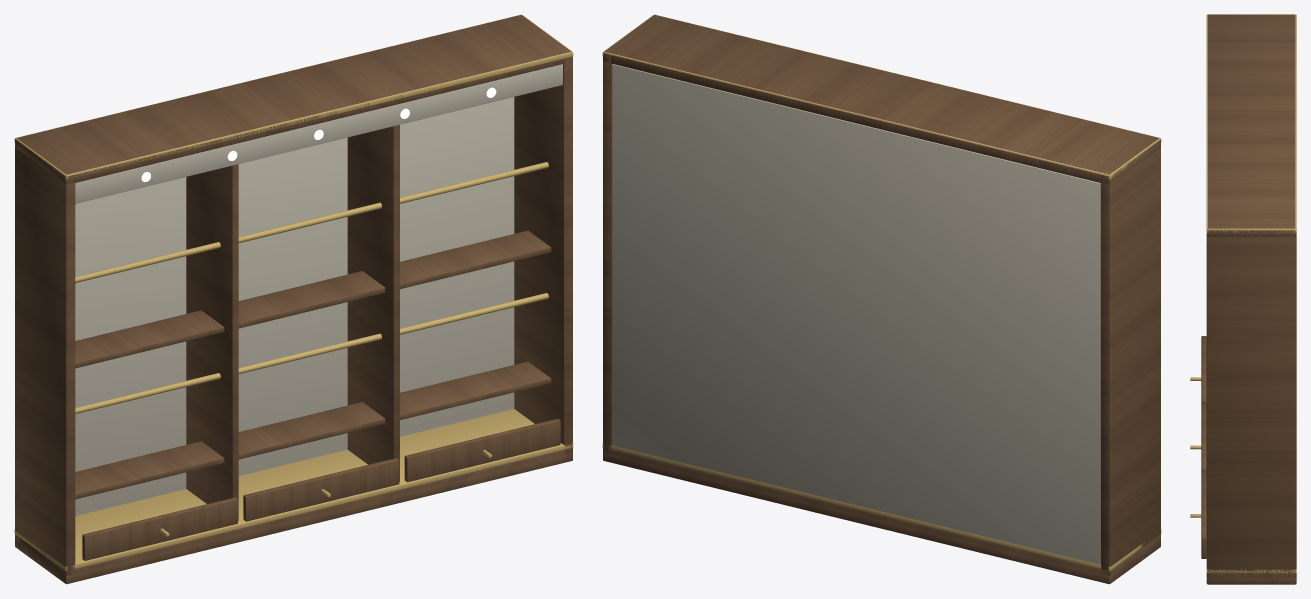
File: pf_display_golf_club_wall_t5.glb
3 views of the same model, side by side, from view 1: azimuth 30°, elevation 25°; view 2: azimuth 150°, elevation 25°; view 3: azimuth 270°, elevation 25° (orthographic). The views are drawn at different scales.
Parts seen in each view (by area): view 1: Case_Back, Case_Top, Case_Left, Case_Right, Millwork_Divider_01, Millwork_Divider_02, Club_Head_Tray_2, Club_Head_Tray_1, Plinth_Trim, Header_Back, Case_Base, Drawer_Front_02 (+6 smaller); view 2: Case_Back, Case_Top, Case_Left, Case_Base, Plinth_Base, Case_Right, Plinth_Trim, Crown_Trim; view 3: Case_Right, Case_Top, Crown_Trim, Case_Base, Drawer_Front_03, Plinth_Base, Drawer_Front_01, Drawer_Front_02, Plinth_Trim.
Part boxes in pixels (x1,y1,x2,y2): Case_Back: [75, 97, 514, 515]; Case_Top: [15, 15, 572, 184]; Case_Left: [15, 142, 75, 584]; Case_Right: [514, 56, 572, 462]; Millwork_Divider_01: [186, 164, 238, 520]; Millwork_Divider_02: [347, 125, 399, 481]; Club_Head_Tray_2: [75, 361, 551, 499]; Club_Head_Tray_1: [75, 230, 551, 368]; Plinth_Trim: [14, 409, 573, 571]; Header_Back: [75, 64, 562, 203]; Case_Base: [15, 452, 572, 583]; Drawer_Front_02: [243, 458, 399, 521]; Case_Back: [612, 64, 1100, 564]; Case_Top: [603, 15, 1160, 184]; Case_Left: [1100, 140, 1160, 584]; Case_Base: [603, 452, 1160, 583]; Plinth_Base: [604, 448, 1160, 582]; Case_Right: [603, 54, 612, 461]; Plinth_Trim: [602, 443, 1161, 571]; Crown_Trim: [602, 14, 1161, 180]; Case_Right: [1206, 226, 1296, 579]; Case_Top: [1206, 14, 1296, 236]; Crown_Trim: [1206, 14, 1296, 233]; Case_Base: [1206, 577, 1296, 584]; Drawer_Front_03: [1201, 472, 1206, 558]; Plinth_Base: [1208, 573, 1294, 580]; Drawer_Front_01: [1201, 336, 1206, 404]; Drawer_Front_02: [1201, 404, 1206, 473]; Plinth_Trim: [1206, 569, 1296, 573].
Size of the model in its own units: 3.4 by 2.62 by 0.71.
Materials: 5 (1 with a texture image).
